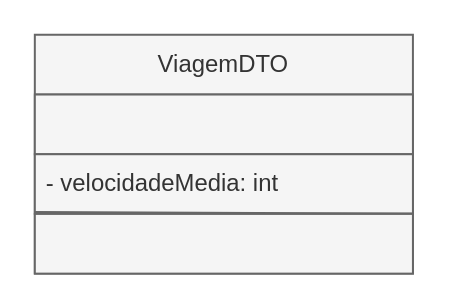
Some shapes in this 450 by 308 pixel diagram are drawn without their labels. Here are the shapes that lost their labels. From the top down, the centre of each, then its label:
At (x=223, y=123): "- distancia: double".
At (x=223, y=243): "+ calculaTempoViagem( ) : String".
